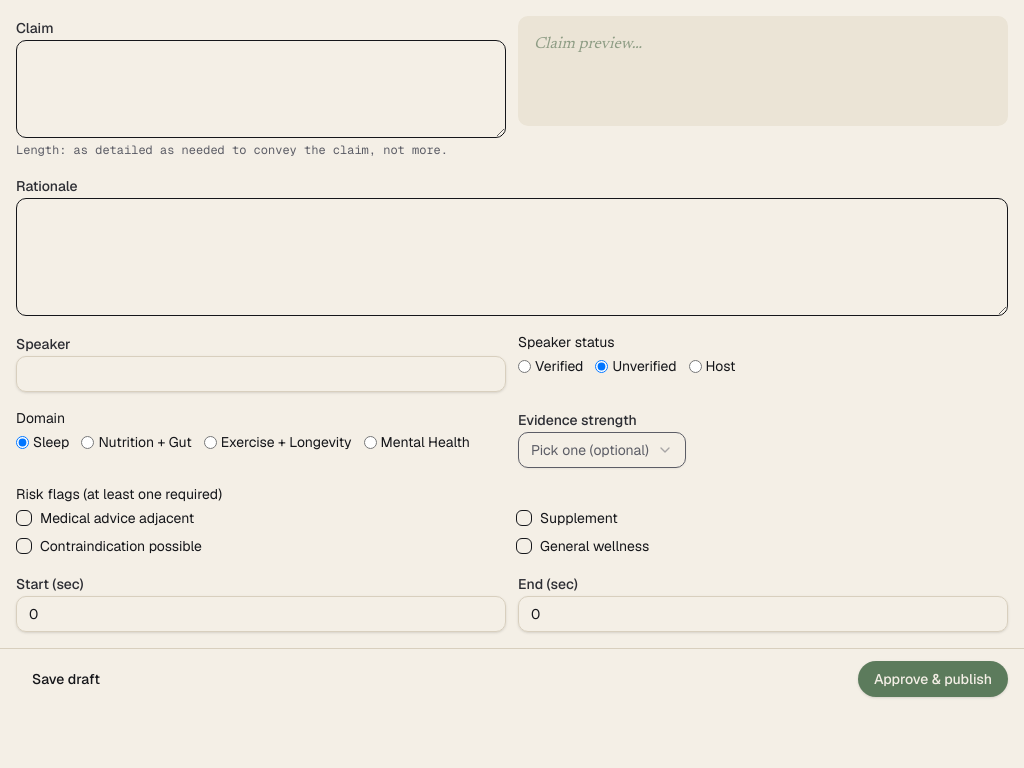
Scenario: MetadataTab › shows inline error when submitting with empty riskFlags
Note: Fill required fields to get past other validations
Step 1. Type "Sleep affects cognitive function significantly" into the text box labelled "Claim" → (261, 89), box [16,40,506,138]
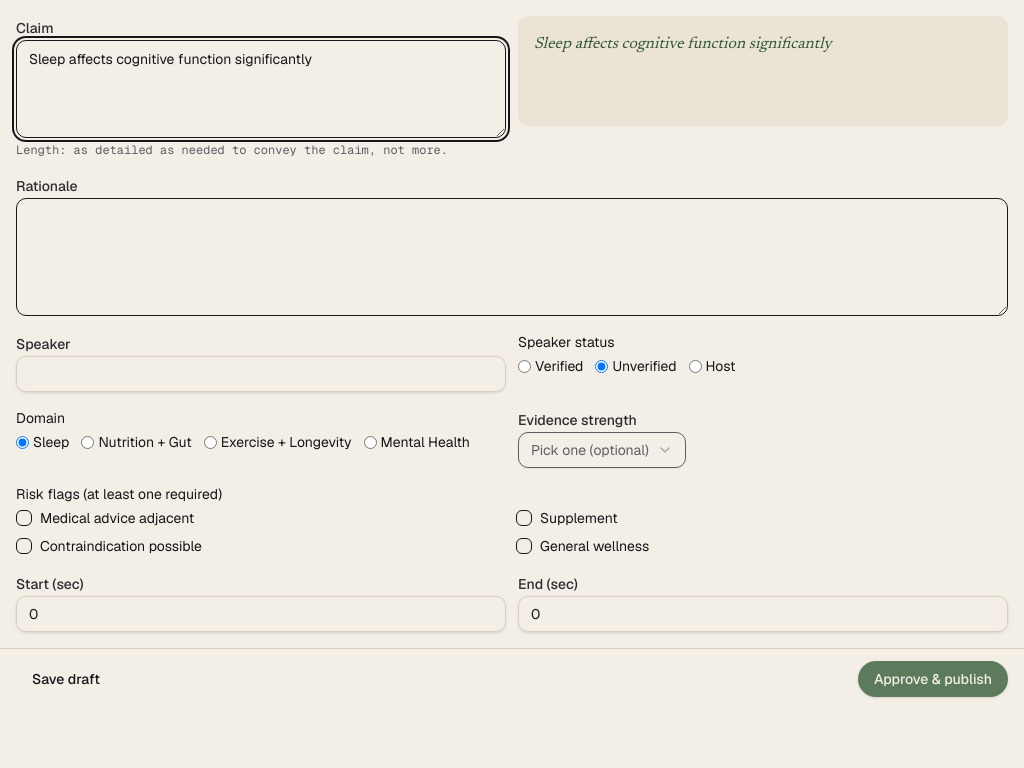
Step 2. Type "Research shows sleep quality impacts memory" into the text box labelled "Rationale" → (512, 257), box [16,198,1008,316]
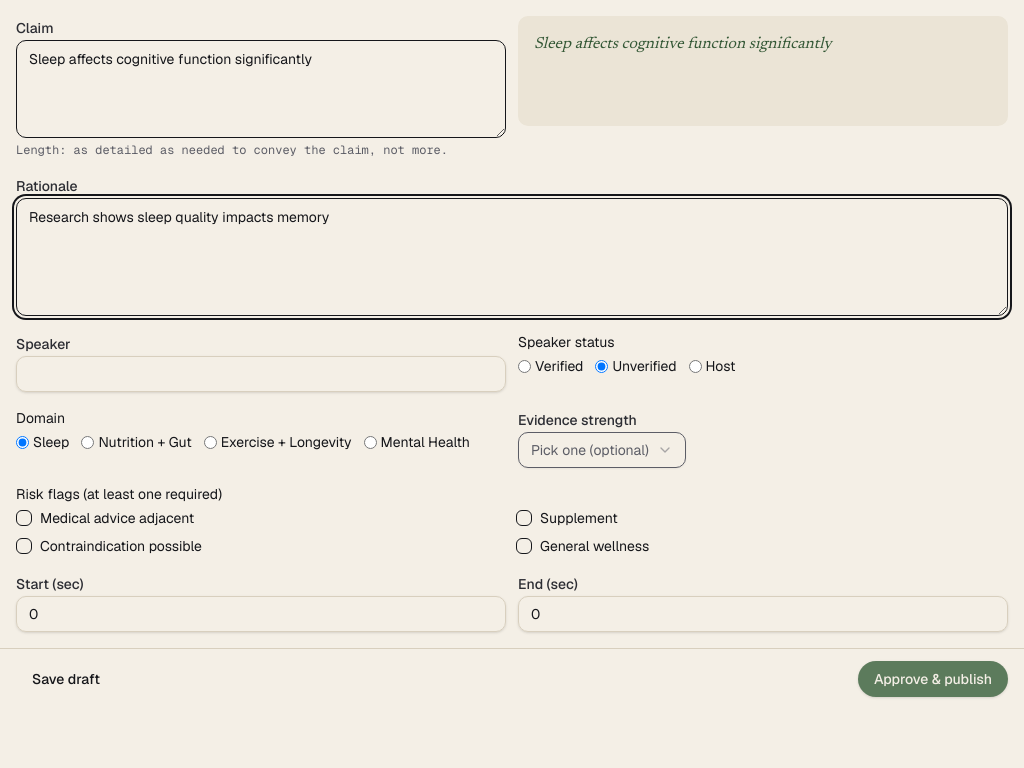
Step 3. Type "Dr. Matthew Walker" into the field labelled "Speaker" → (261, 374), box [16,356,506,392]
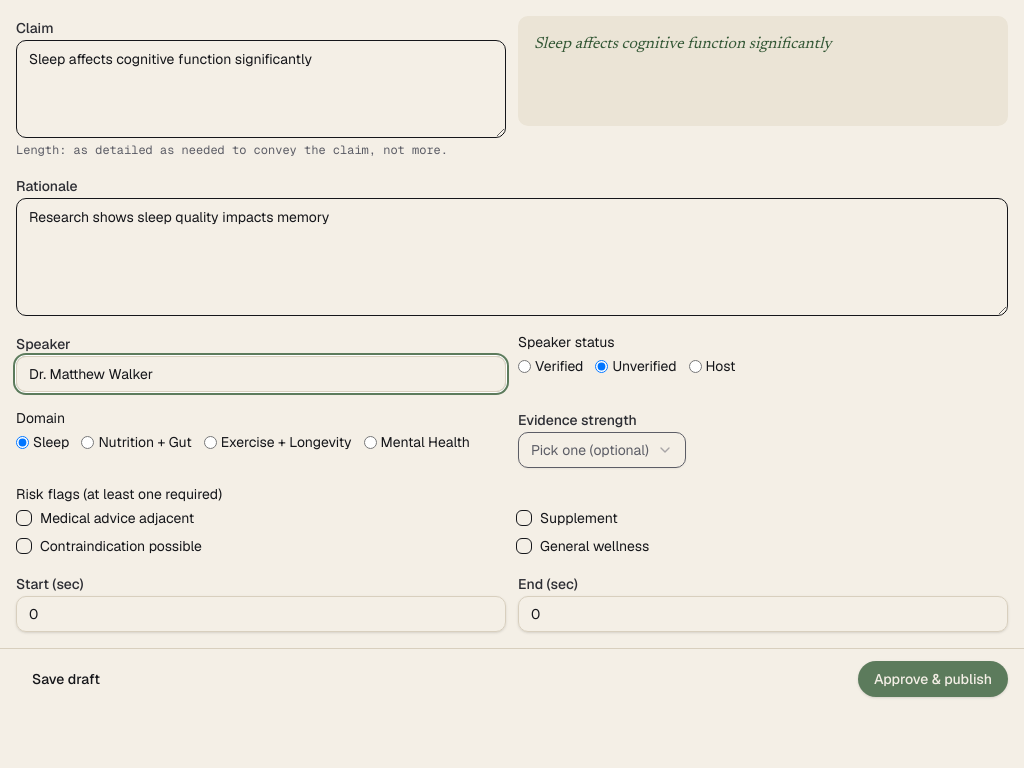
Step 4. Replace the text in the number field labelled "End (sec)" with "120" → (763, 614), box [518,596,1008,632]
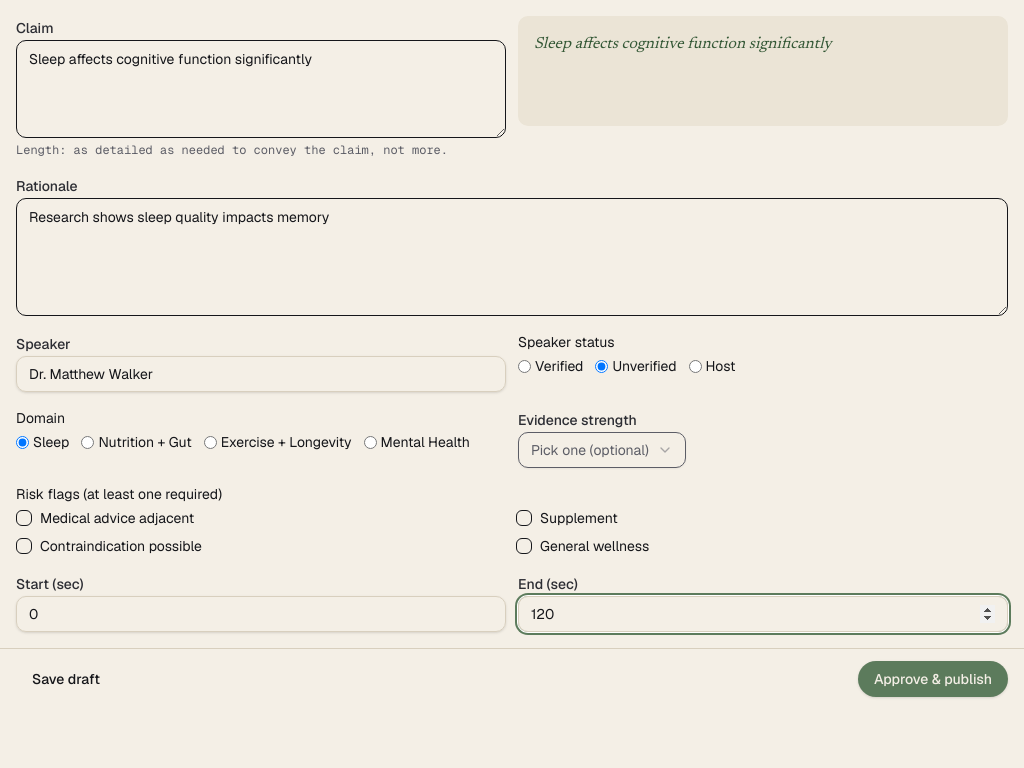
Note: Do NOT check any risk flag — submit with empty riskFlags
Step 5. Submit the form
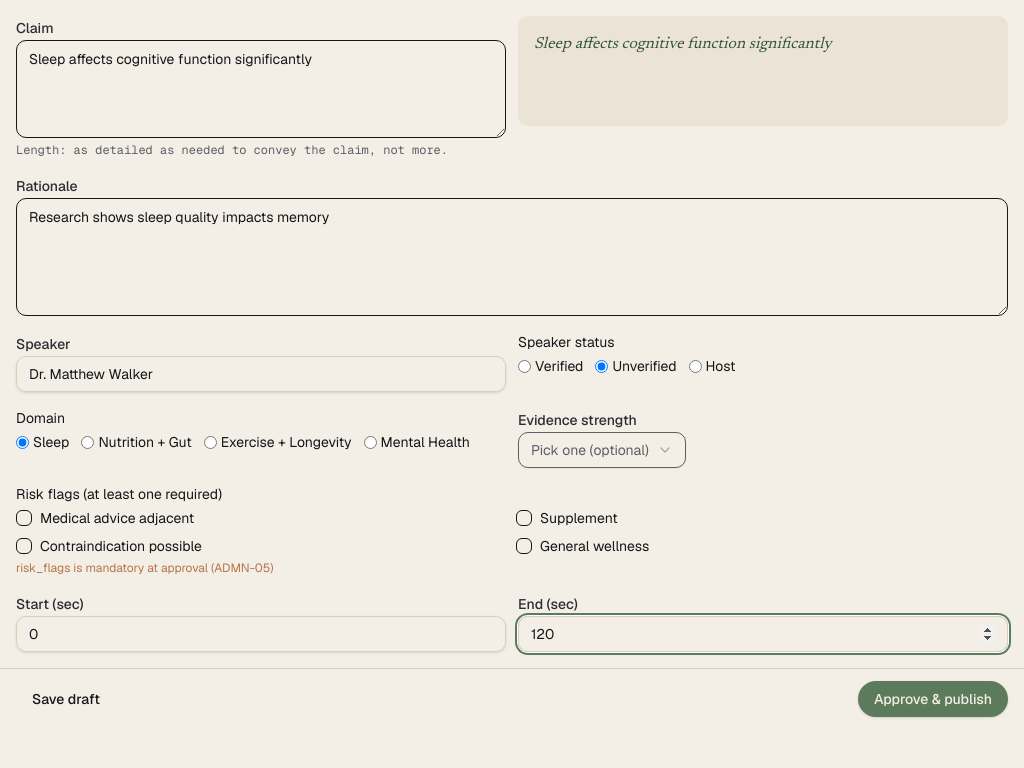
Check: the text "risk_flags is mandatory at approval (ADMN-05)" is shown, box [16,560,274,576]
